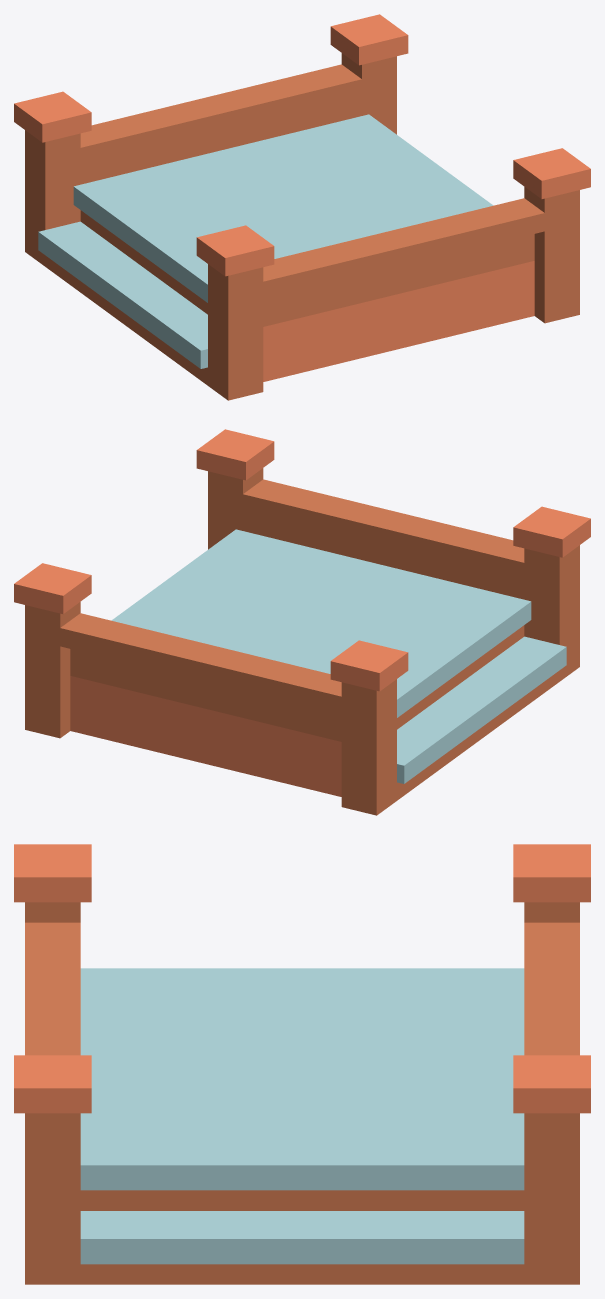
File: d_kenney_pont_bois.glb
3 views of the same model, one above another, from view 1: azimuth 30°, elevation 25°; view 2: azimuth 150°, elevation 25°; view 3: azimuth 270°, elevation 25° (orthographic). The views are drawn at different scales.
Parts seen in each view (by area): view 1: d_kenney_pont_bois; view 2: d_kenney_pont_bois; view 3: d_kenney_pont_bois.
Boxes of the visible parts, x1=… form: d_kenney_pont_bois: x1=14, y1=14, x2=590, y2=400; d_kenney_pont_bois: x1=14, y1=429, x2=590, y2=815; d_kenney_pont_bois: x1=14, y1=844, x2=590, y2=1284.
Size of the model in its own units: 1.04 by 0.3999 by 1.04.
1 material, 1 textured.
